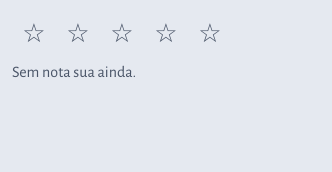
Test case: Stars › saves the rating, and clicking the same star clears it
Step 1. Click the button named "3 de 5" → x=122, y=34, box [100, 12, 144, 56]
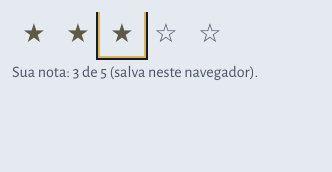
Now the button named "3 de 5" is pressed
Step 2. Click the button named "3 de 5" → x=122, y=34, box [100, 12, 144, 56]
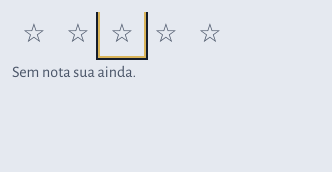
Now the text "Sem nota sua ainda." is shown, box [12, 64, 136, 80]
